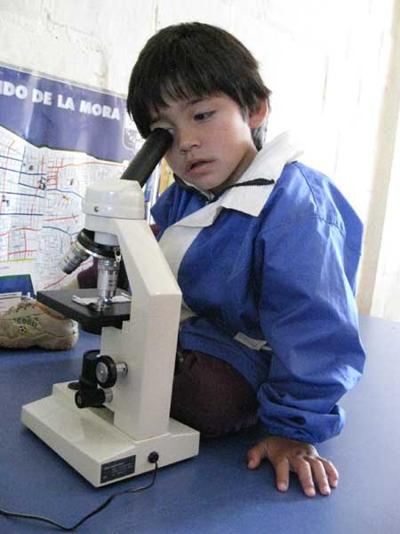person: (126, 21, 364, 497)
